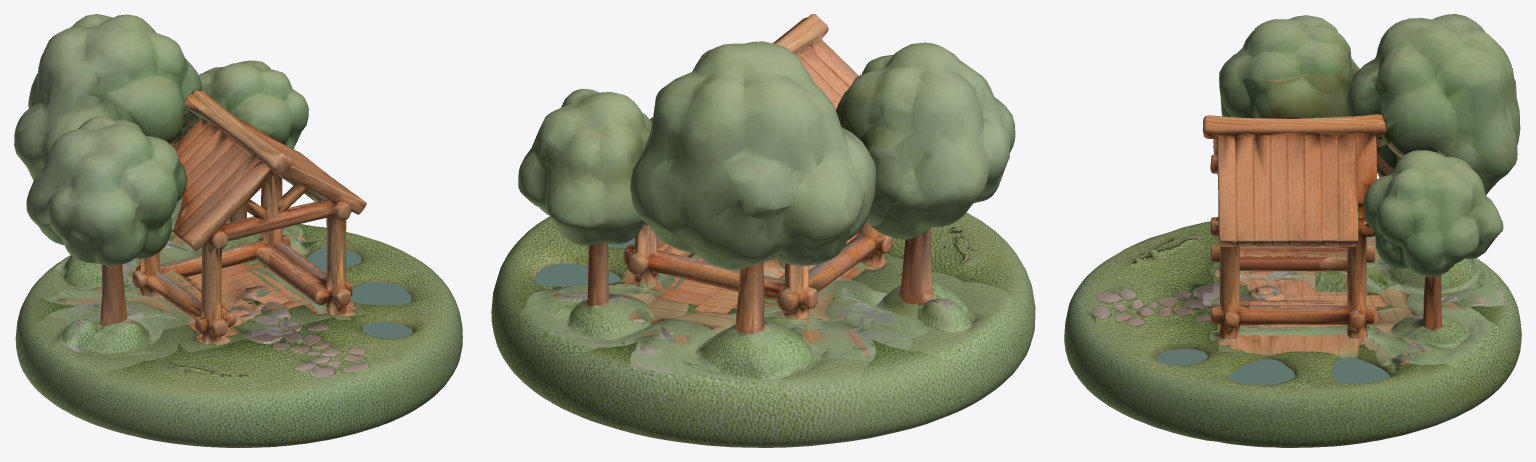
3 views of the same model, side by side, from view 1: azimuth 30°, elevation 25°; view 2: azimuth 150°, elevation 25°; view 3: azimuth 270°, elevation 25° (orthographic). The views are drawn at different scales.
Visible parts, largest first — view 1: texture_mapping, local_puddle_surface_repairs; view 2: texture_mapping, local_puddle_surface_repairs; view 3: texture_mapping, local_puddle_surface_repairs.
Part boxes in pixels (<box>): texture_mapping: <box>14,14,462,447</box>; local_puddle_surface_repairs: <box>307,247,412,338</box>; texture_mapping: <box>491,14,1035,447</box>; local_puddle_surface_repairs: <box>534,237,634,286</box>; texture_mapping: <box>1064,14,1521,447</box>; local_puddle_surface_repairs: <box>1156,349,1389,384</box>.
Size of the model in its own units: 0.9993 by 0.7454 by 0.9991.
2 materials, 1 textured.
